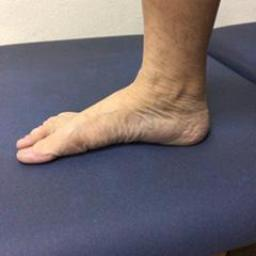Medial View -Right Foot-: (9, 43, 222, 176)
